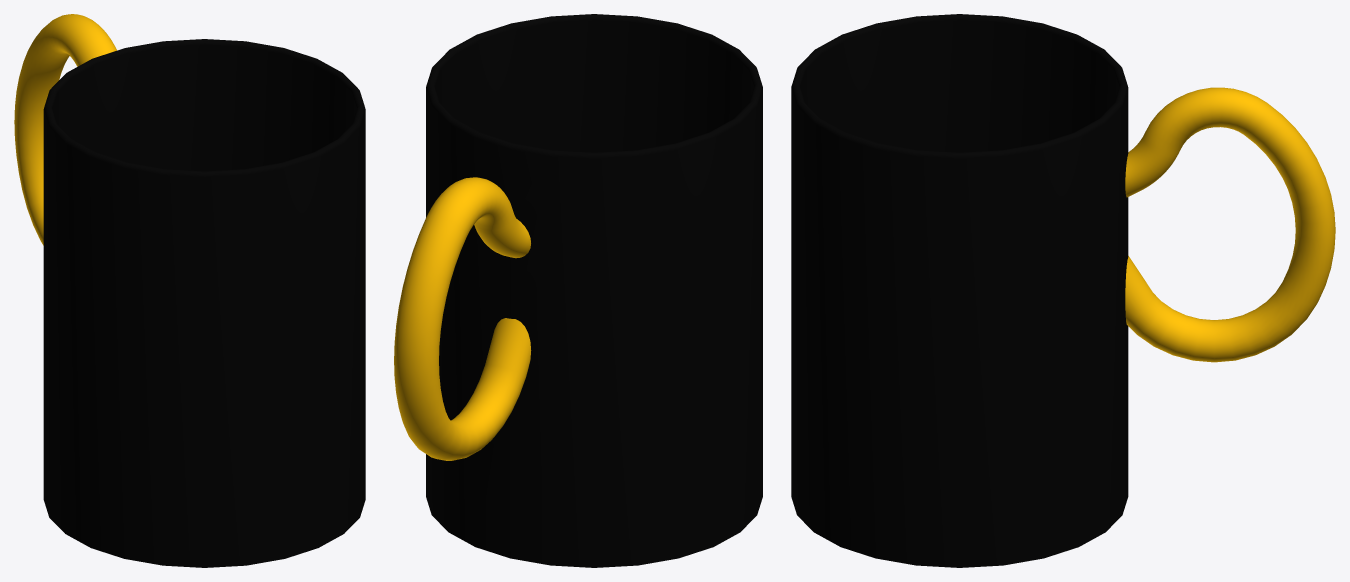
File: mug_02_origin_gt_1.dae
The picture shows the model from 3 angles, left to right: view 1: azimuth 30°, elevation 25°; view 2: azimuth 150°, elevation 25°; view 3: azimuth 270°, elevation 25°; orthographic projection. The views are drawn at different scales.
Parts seen in each view (by area): view 1: SketchUp (×2); view 2: SketchUp (×2); view 3: SketchUp (×2).
Part boxes in pixels (left/top/right/bottom): SketchUp (×2): left=14, top=14, right=365, bottom=567; SketchUp (×2): left=394, top=14, right=762, bottom=567; SketchUp (×2): left=791, top=14, right=1335, bottom=567.
Size of the model in its own units: 4.26 by 6.87 by 5.75.
